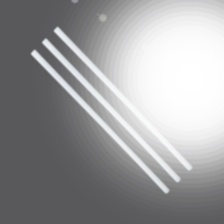drinking_straw: (24, 20, 197, 199)
